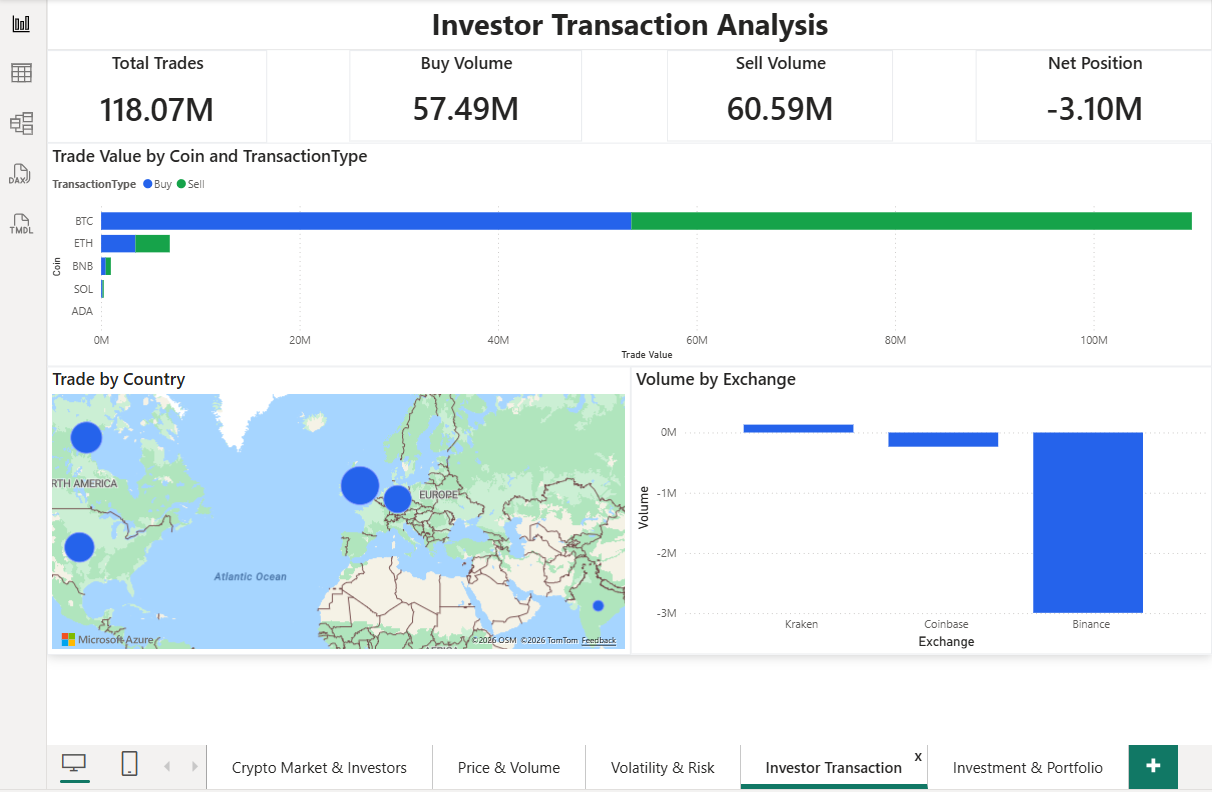

Layout of this report page (visuals, bound fields, positions):
{"tool":"powerbi","page":{"name":"Investor Transaction","canvas":[1280,720],"ordinal":3},"visuals":[{"type":"textbox","box":[0,0,1280.3,56.3],"z":0},{"type":"kpi","title":"Total Trades","fields":{"Indicator":["Sum(Synthetic_Crypto_Investor_Transactions.TradeValue)"],"TrendLine":["Date.Date"]},"box":[0,56.3,241.5,101.5],"z":1000},{"type":"kpi","title":"Buy Volume ","fields":{"Indicator":["Synthetic_Crypto_Investor_Transactions.Buy Volume"],"TrendLine":["Date.Date"]},"box":[332.1,56.3,255.2,100.2],"z":2000},{"type":"kpi","title":"Sell Volume","fields":{"Indicator":["Investors_Dimension.Sell Volume"],"TrendLine":["Date.Date"]},"box":[680.6,56.3,248.4,100.2],"z":3000},{"type":"kpi","title":"Net Position","fields":{"Indicator":["Synthetic_Crypto_Investor_Transactions.Net Position"],"TrendLine":["Date.Date"]},"box":[1019.6,56.3,260.7,100.2],"z":4000},{"type":"barChart","fields":{"Y":["Sum(Synthetic_Crypto_Investor_Transactions.TradeValue)"],"Category":["Synthetic_Crypto_Investor_Transactions.Coin"],"Series":["Synthetic_Crypto_Investor_Transactions.TransactionType"]},"box":[0,157.8,1280.3,245.6],"z":5000},{"type":"azureMap","fields":{"Category":["Synthetic_Crypto_Investor_Transactions.Country"],"Size":["Sum(Synthetic_Crypto_Investor_Transactions.TradeValue)"]},"box":[0,403.4,640.8,317],"z":6000},{"type":"clusteredColumnChart","fields":{"Y":["Synthetic_Crypto_Investor_Transactions.Net Position"],"Category":["Synthetic_Crypto_Investor_Transactions.Exchange"]},"box":[641,404,639,316],"z":7000}]}

Visuals, with their boxes on the page's 1280x720 design canvas (x1, y1, x2, y2). These are canvas units, not pixel positions in the 1212x792 screenshot, which may show the page scaled, cropped or inside an application window:
textbox: 0,0,1280,56
"Total Trades" kpi: 0,56,242,158
"Buy Volume " kpi: 332,56,587,156
"Sell Volume" kpi: 681,56,929,156
"Net Position" kpi: 1020,56,1280,156
barChart - Sum(Synthetic_Crypto_Investor_Transactions.TradeValue) x Synthetic_Crypto_Investor_Transactions.Coin: 0,158,1280,403
azureMap - Synthetic_Crypto_Investor_Transactions.Country x Sum(Synthetic_Crypto_Investor_Transactions.TradeValue): 0,403,641,720
clusteredColumnChart - Synthetic_Crypto_Investor_Transactions.Net Position x Synthetic_Crypto_Investor_Transactions.Exchange: 641,404,1280,720
